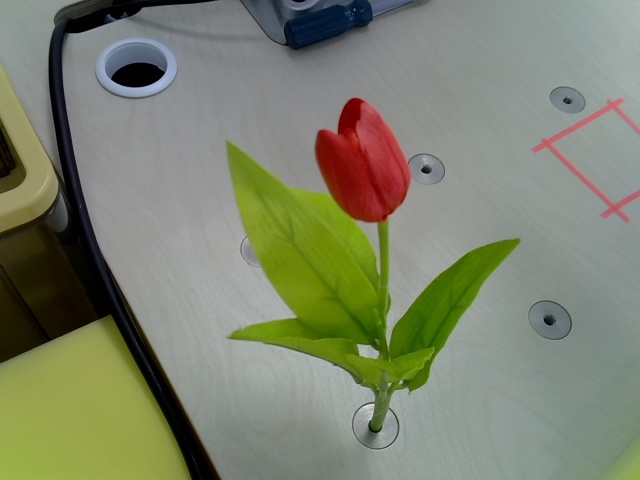튤립: (313, 97, 412, 227)
